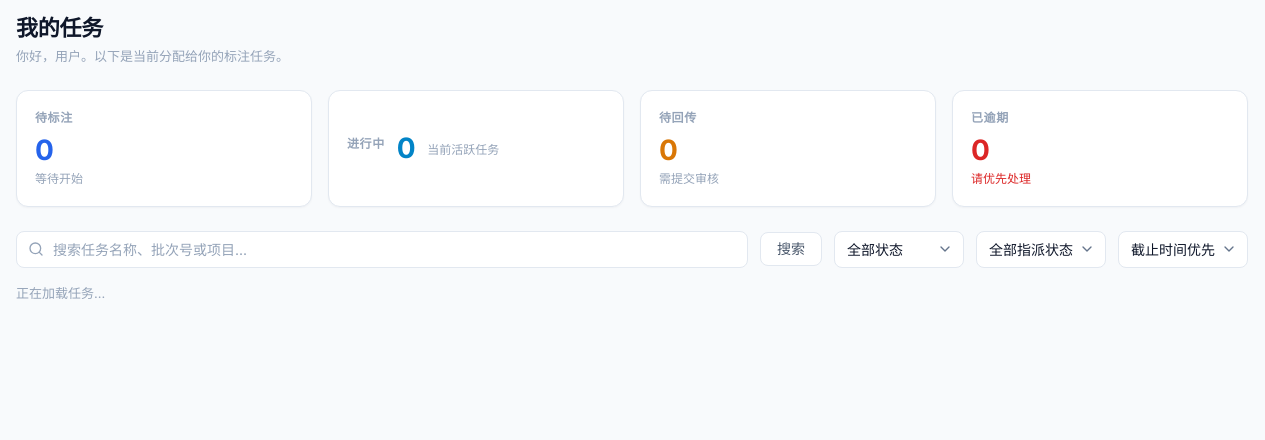
Test: TaskQueuePage › ignores an older request that finishes after a new filter
Select "进行中" in the dropdown named "任务状态": (899, 249) [834,231,964,268]
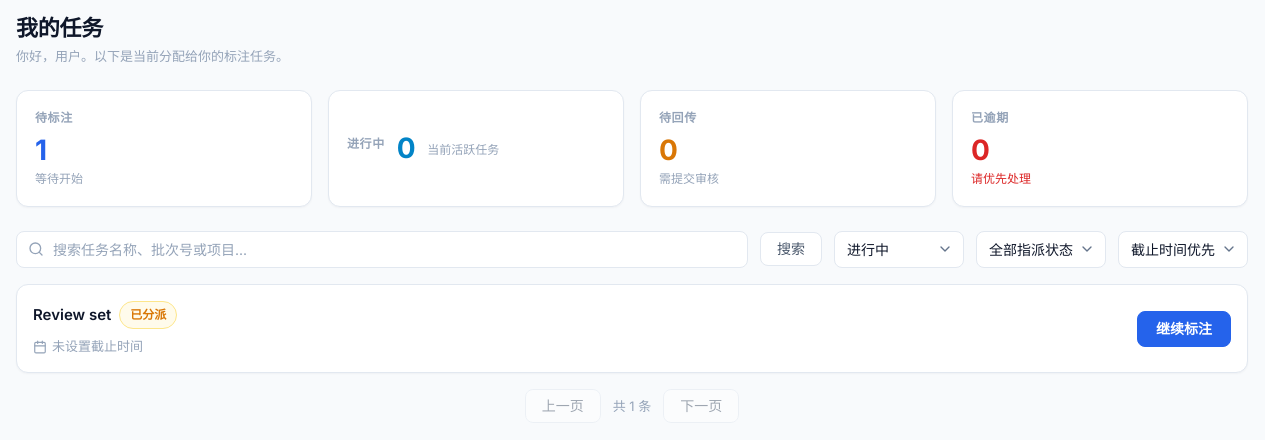
expect the text "Review set" is shown: met, box [33,304,111,326]
